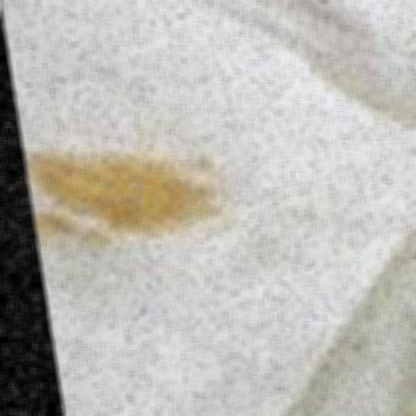coffee: (24, 140, 208, 243)
